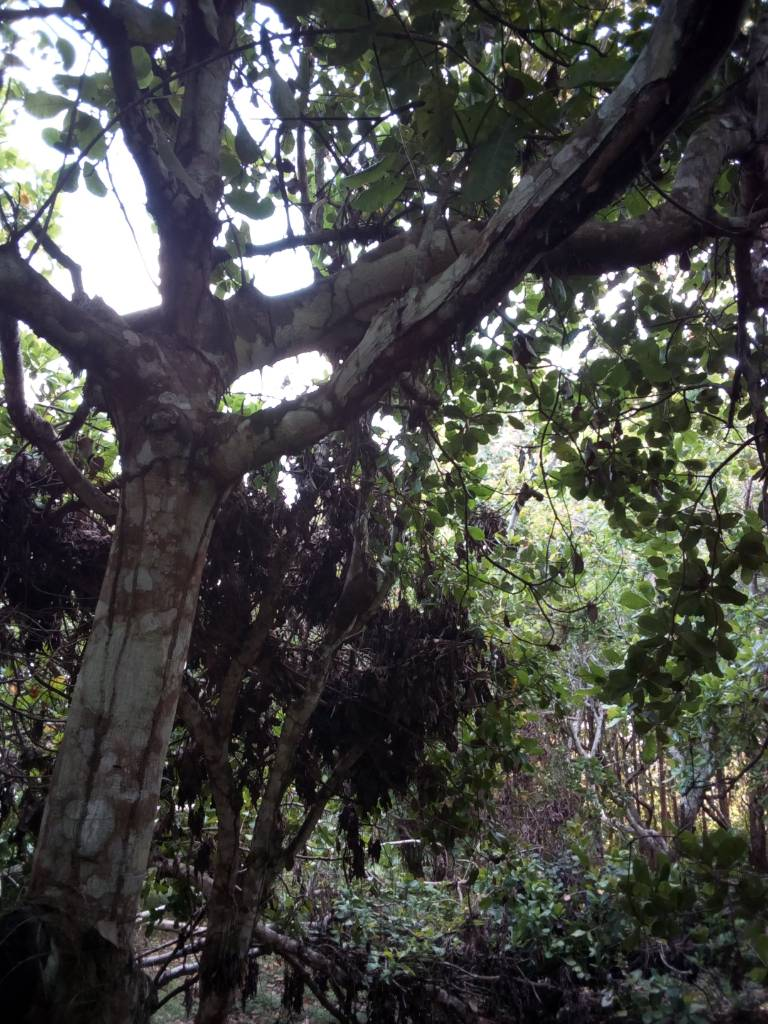Termites: (91, 496, 135, 930)
